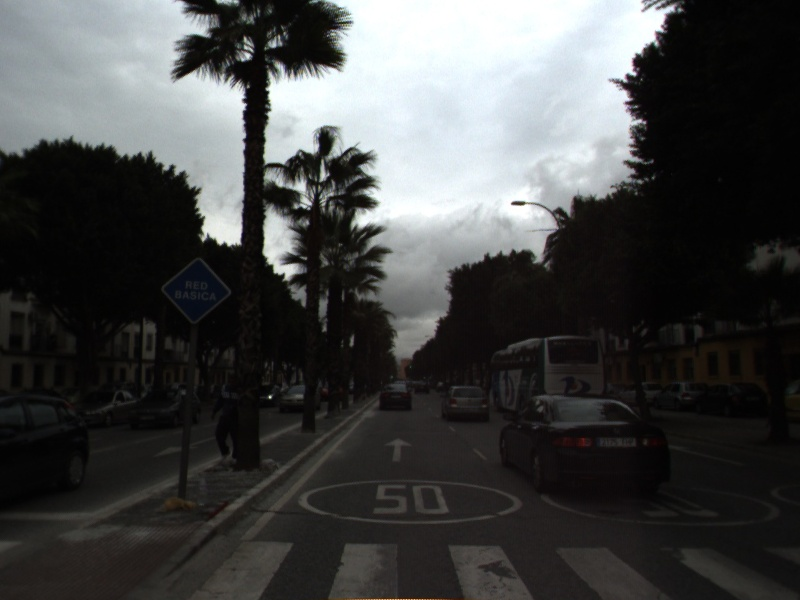STRAIGHT: (382, 436, 415, 464)
